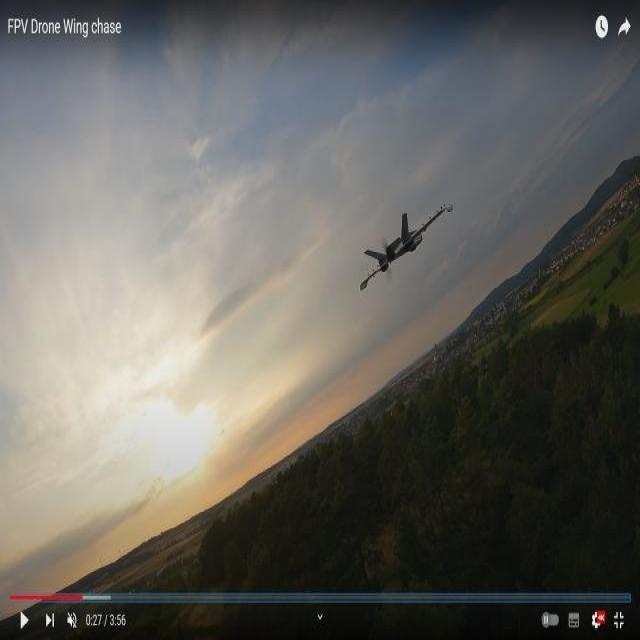iha: (382, 229, 432, 266)
